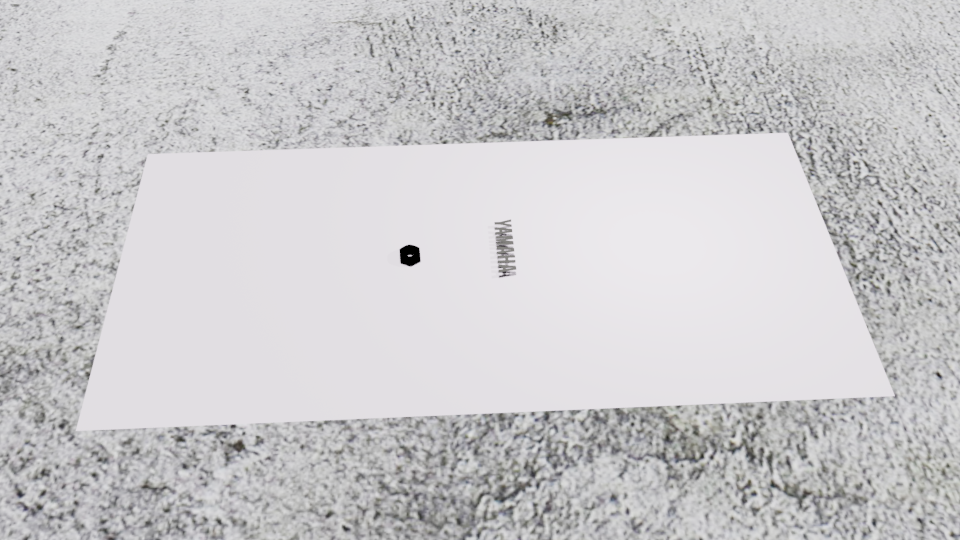yamaha_letters: (493, 218, 516, 272)
